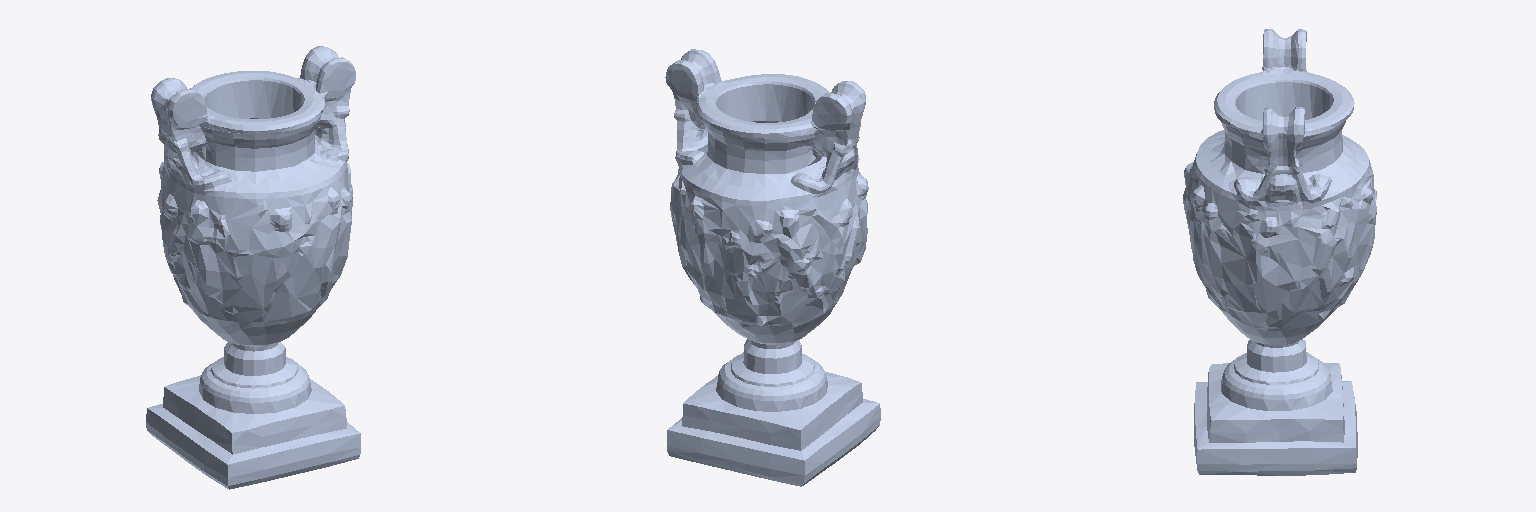
Rendered from vase_lod0.obj.
3 renders of one model, left to right at view 1: azimuth 30°, elevation 25°; view 2: azimuth 150°, elevation 25°; view 3: azimuth 270°, elevation 25°, orthographic.
Parts seen in each view (by area): view 1: Vase_Lod0; view 2: Vase_Lod0; view 3: Vase_Lod0.
Boxes of the visible parts, x1,y1,x2,y2 form: Vase_Lod0: [146, 46, 360, 489]; Vase_Lod0: [665, 49, 880, 486]; Vase_Lod0: [1183, 29, 1376, 475].
Size of the model in its own units: 4.27 by 8.25 by 3.87.